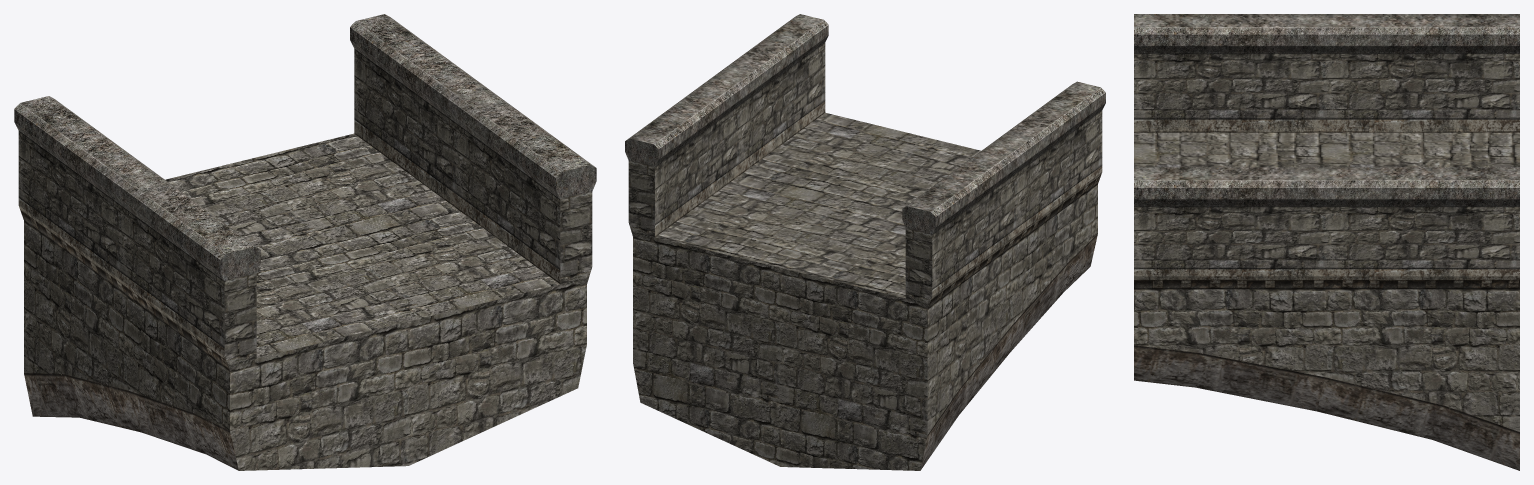
The model's file is StoneBridgeBracing.dae.
3 renders of one model, left to right at view 1: azimuth 30°, elevation 25°; view 2: azimuth 150°, elevation 25°; view 3: azimuth 270°, elevation 25°, orthographic. The views are drawn at different scales.
Parts seen in each view (by area): view 1: Bracing10_Support_sep35_Bridge_Tiling, Bracing10_Support_sep35_Bridge; view 2: Bracing10_Support_sep35_Bridge_Tiling, Bracing10_Support_sep35_Bridge; view 3: Bracing10_Support_sep35_Bridge, Bracing10_Support_sep35_Bridge_Tiling.
Boxes of the visible parts, left/top/right/bottom form: Bracing10_Support_sep35_Bridge_Tiling: left=24, top=133, right=586, bottom=470; Bracing10_Support_sep35_Bridge: left=14, top=14, right=596, bottom=470; Bracing10_Support_sep35_Bridge_Tiling: left=633, top=112, right=1097, bottom=470; Bracing10_Support_sep35_Bridge: left=625, top=14, right=1105, bottom=470; Bracing10_Support_sep35_Bridge: left=1134, top=14, right=1519, bottom=470; Bracing10_Support_sep35_Bridge_Tiling: left=1134, top=132, right=1519, bottom=431.
Size of the model in its own units: 4.22 by 3.78 by 4.
